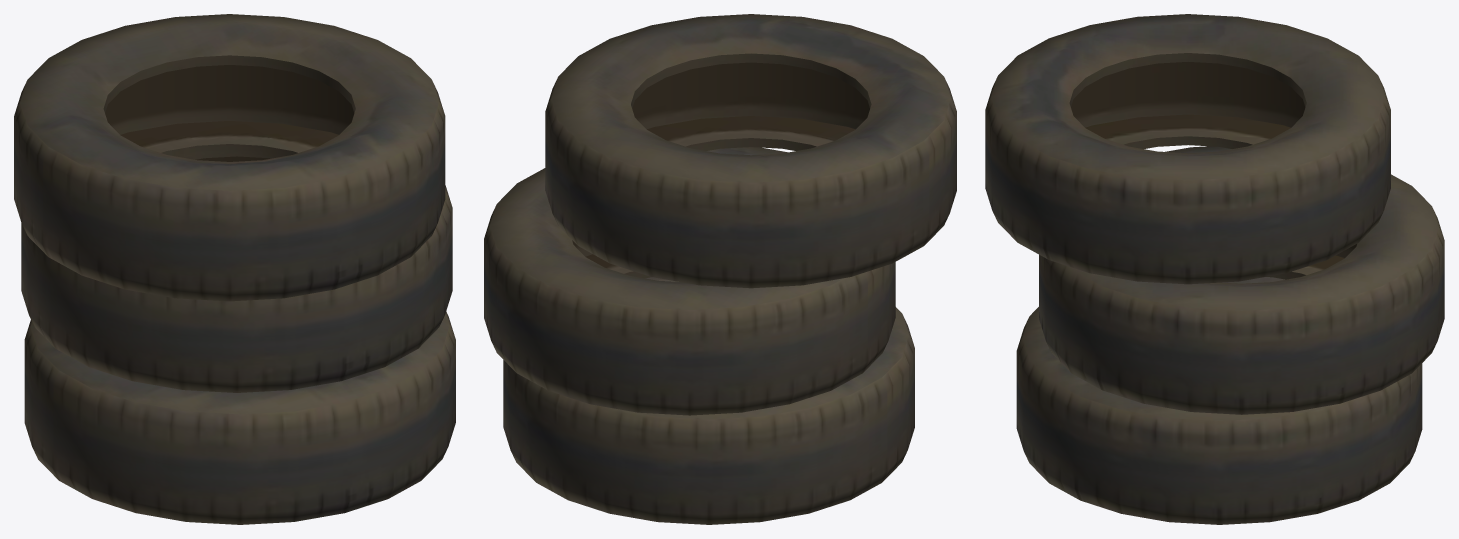
3 views of the same model, side by side, from view 1: azimuth 30°, elevation 25°; view 2: azimuth 150°, elevation 25°; view 3: azimuth 270°, elevation 25° (orthographic). The views are drawn at different scales.
Parts seen in each view (by area): view 1: body0_model0_lod0_mesh0; view 2: body0_model0_lod0_mesh0; view 3: body0_model0_lod0_mesh0.
Boxes of the visible parts, bbox=[...] form: body0_model0_lod0_mesh0: bbox=[14, 14, 455, 524]; body0_model0_lod0_mesh0: bbox=[484, 14, 956, 524]; body0_model0_lod0_mesh0: bbox=[985, 14, 1444, 524].
Bounding box in the file's own units: 60.05 × 51.5 × 62.05.
Materials: 1 (1 with a texture image).
